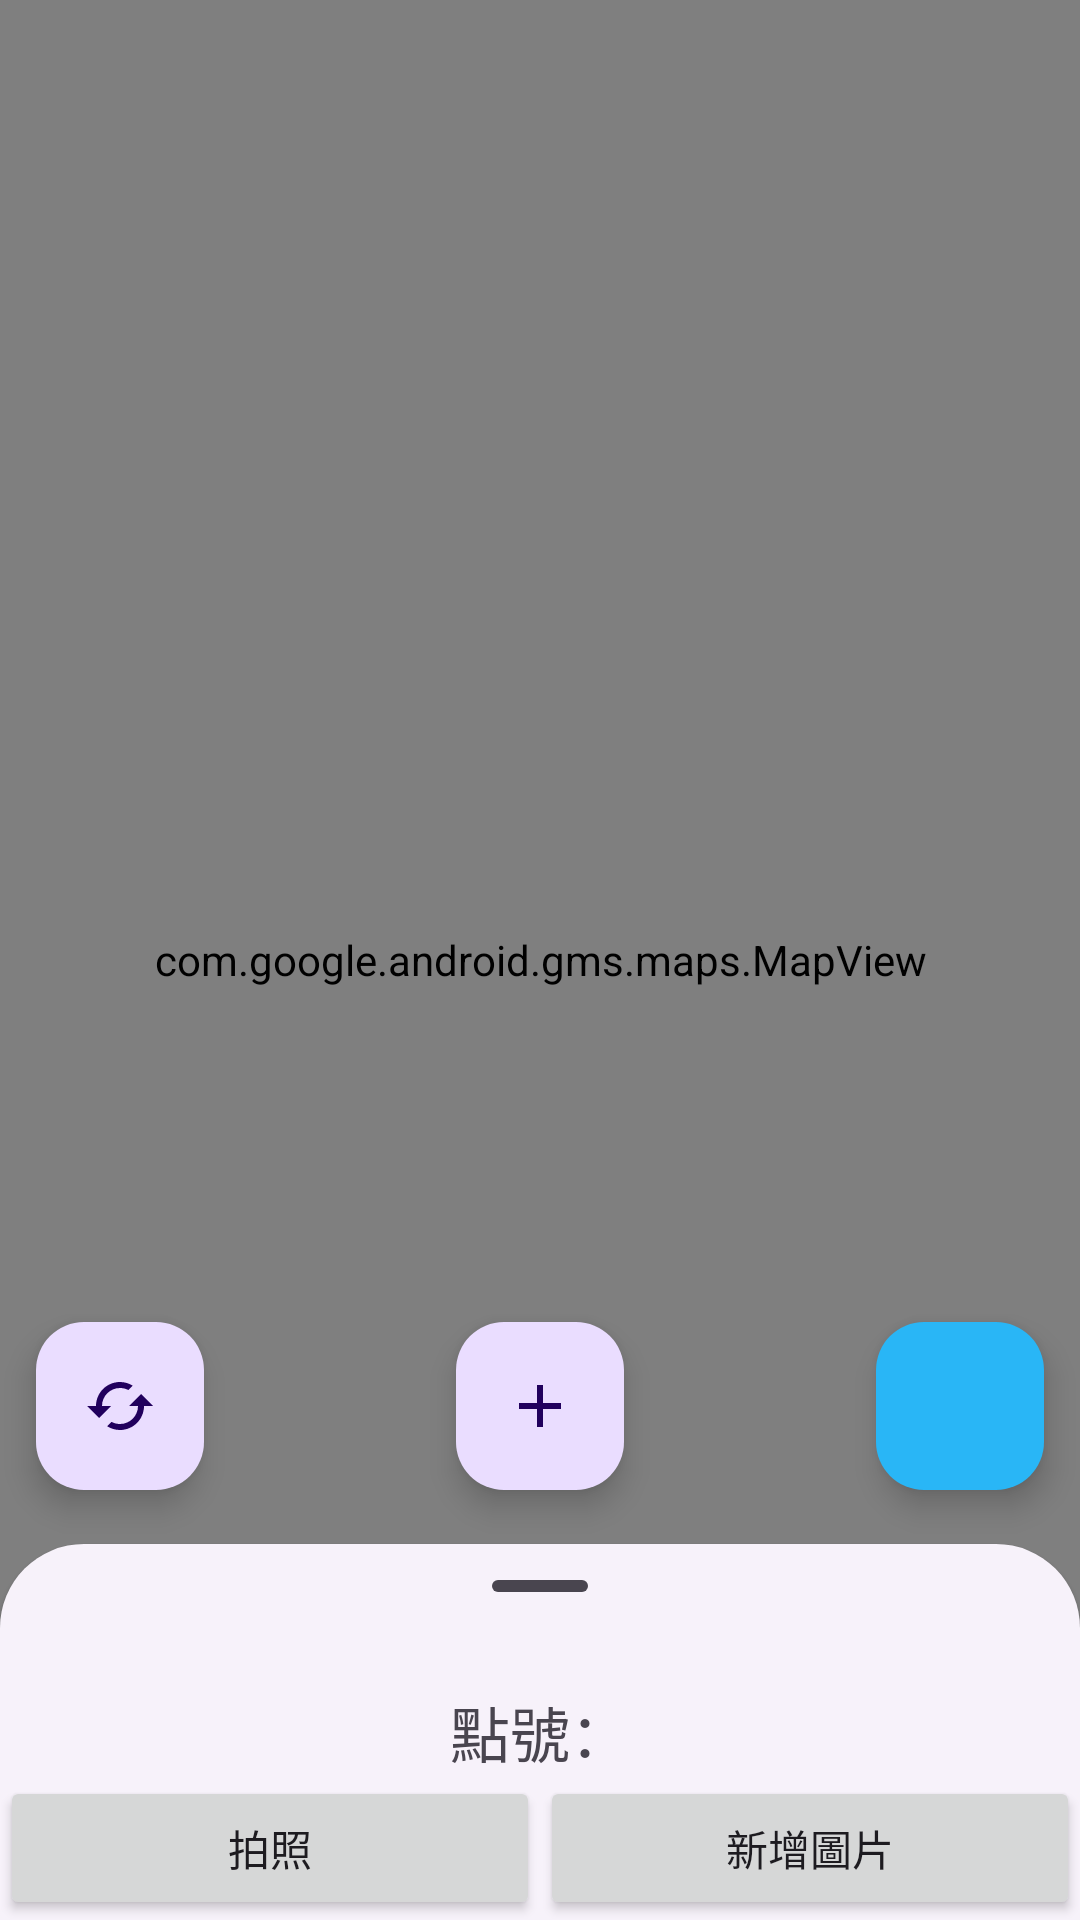

Screen size 1080 x 1920. Icon name, then its center in pixels as [x,y]:
add: [540,1406]
